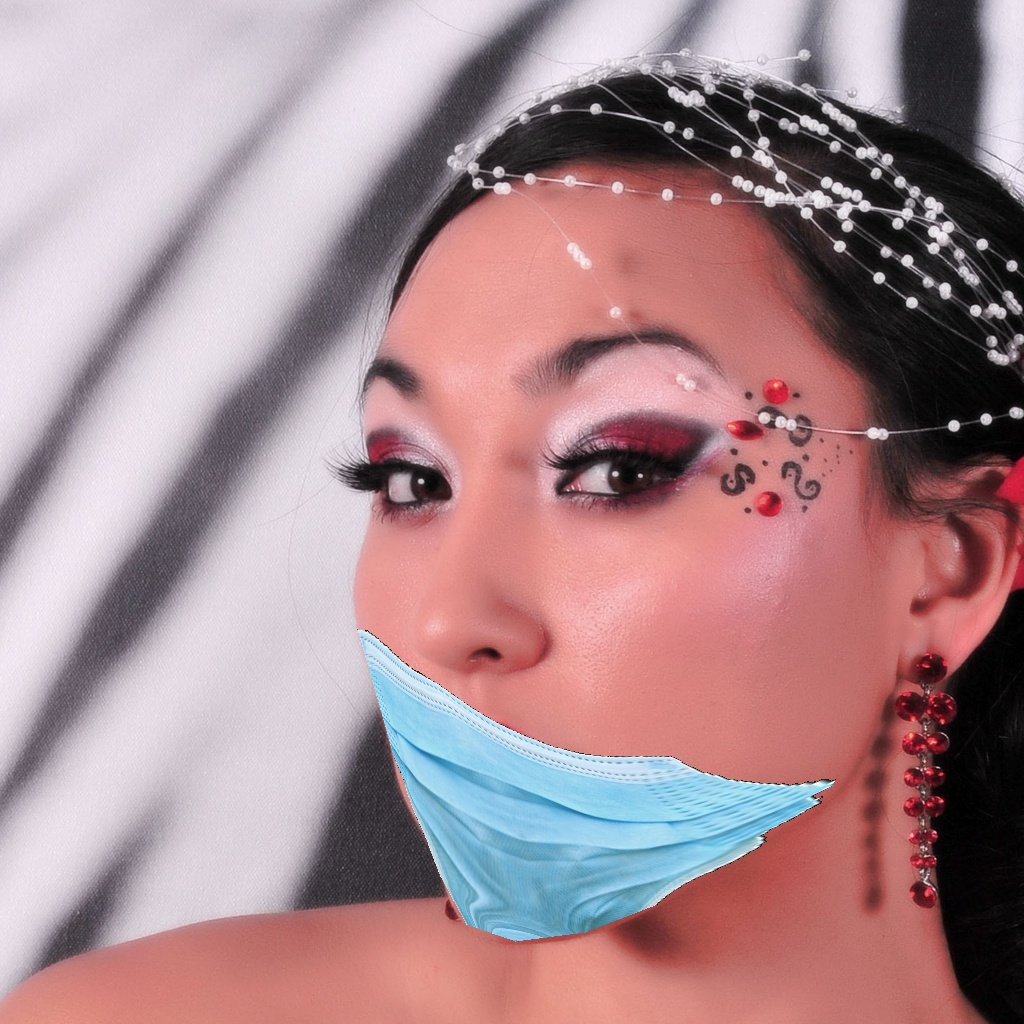mascarilla_mal_puesta: (317, 323, 817, 928)
